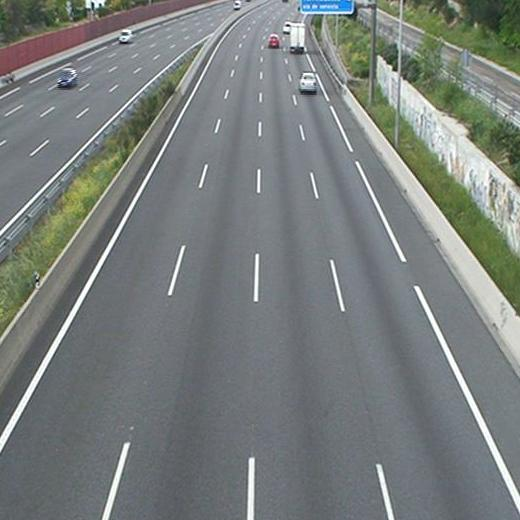car: (300, 71, 317, 93), (268, 34, 279, 48)
small-truck: (288, 24, 306, 53)
